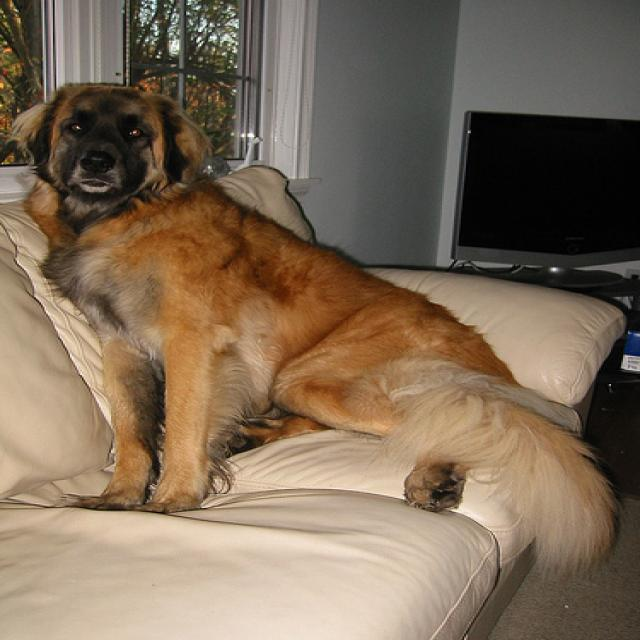dog-leonberger: (2, 70, 637, 582)
